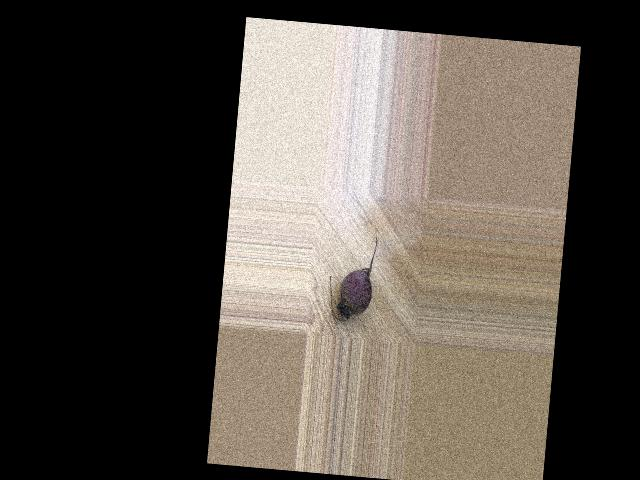beet: (326, 231, 378, 323)
